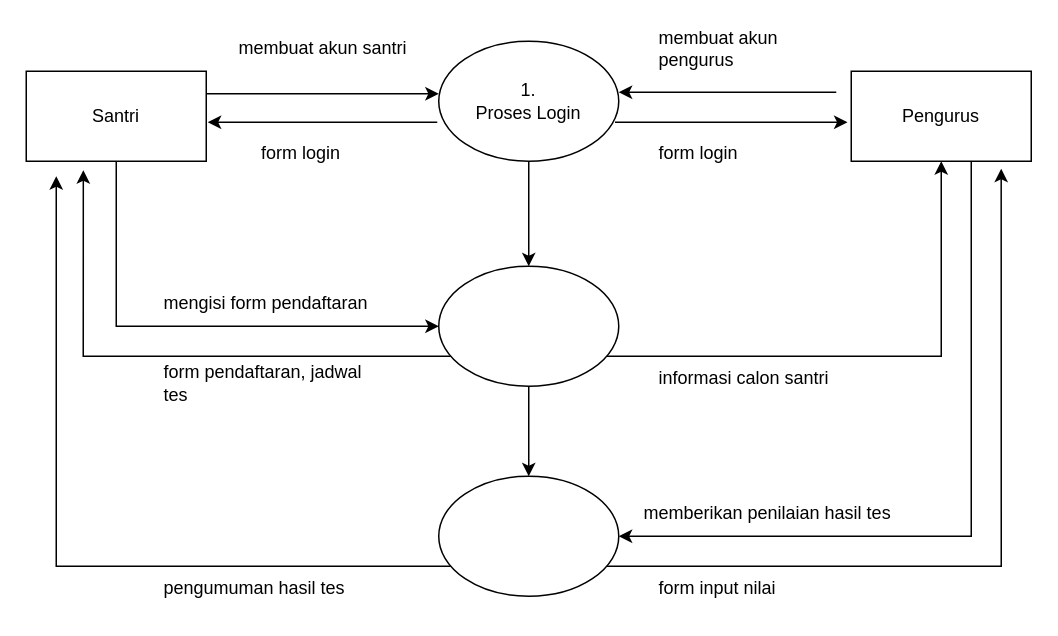
The diagram is 1058 pixels wide and 636 high, and some of its shapes have lost their labels. The shapes that lost their labels are listed below. From the top down, each one's centre as x and y in pixels, then its label:
At (528,325): "2. Proses Pendafataran Calon Santri".
At (528,535): "3. Proses Pengumuman Hasil Tes".
